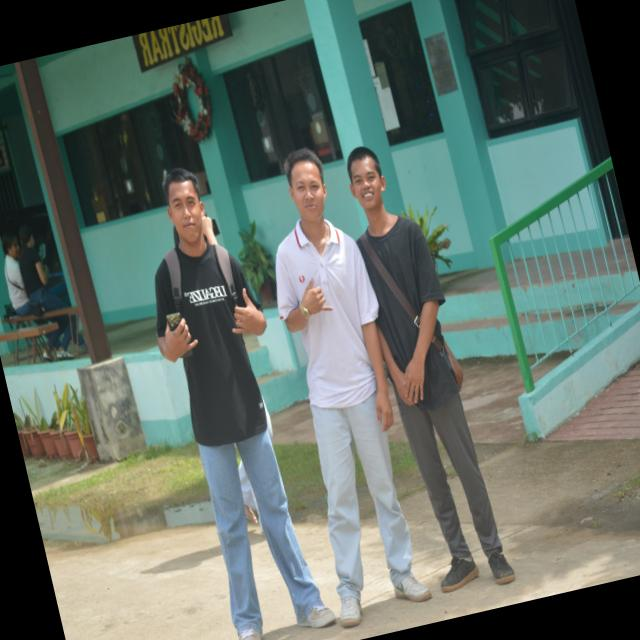person: (155, 169, 334, 639), (346, 147, 514, 592), (275, 149, 430, 627), (18, 226, 66, 311)
